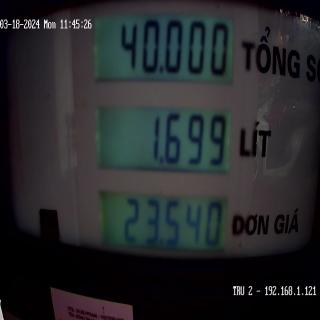screen: (90, 4, 238, 282)
